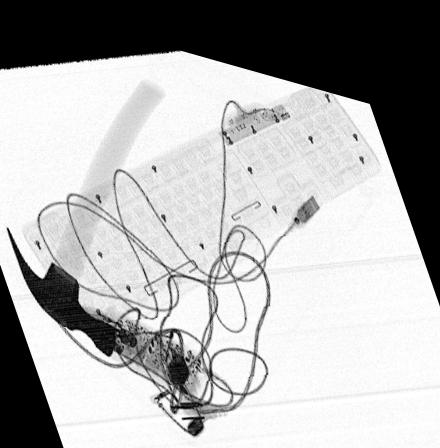Hammer: (4, 66, 167, 353)
